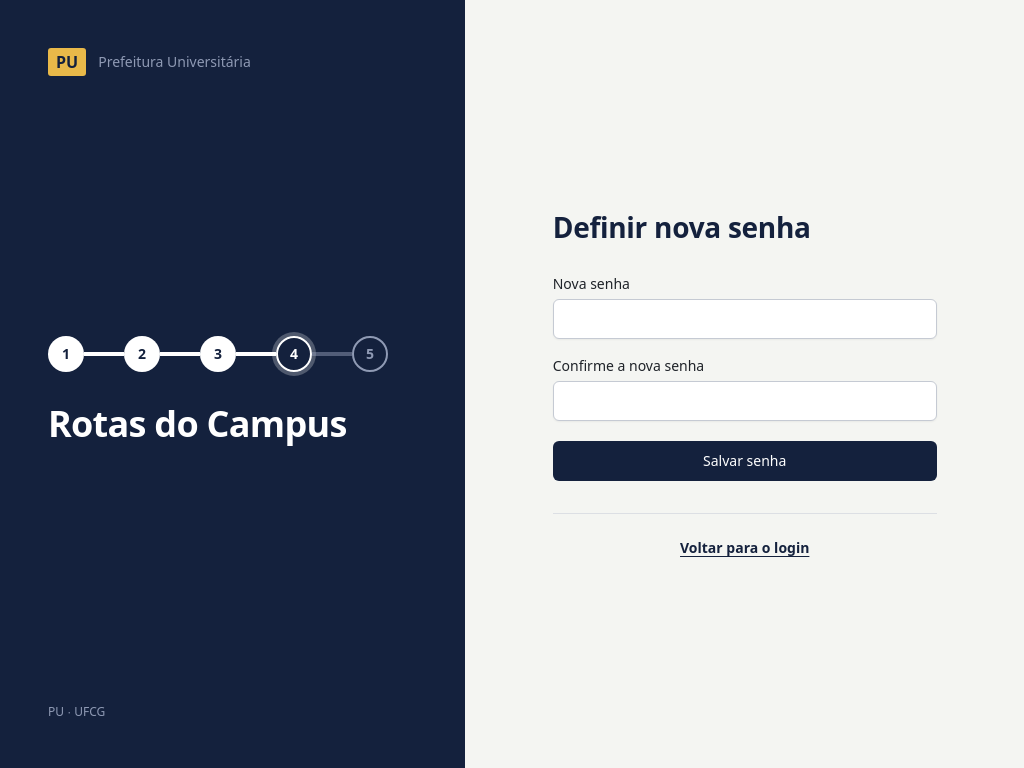
it: ResetPasswordPage (RF03, RF05 invite) › sends the token from the link with the new password
The width and height of the screenshot is (1024, 768).
Type "senha-forte-1" into the password field labelled "Nova senha" at (745, 319), box [553, 299, 937, 339]
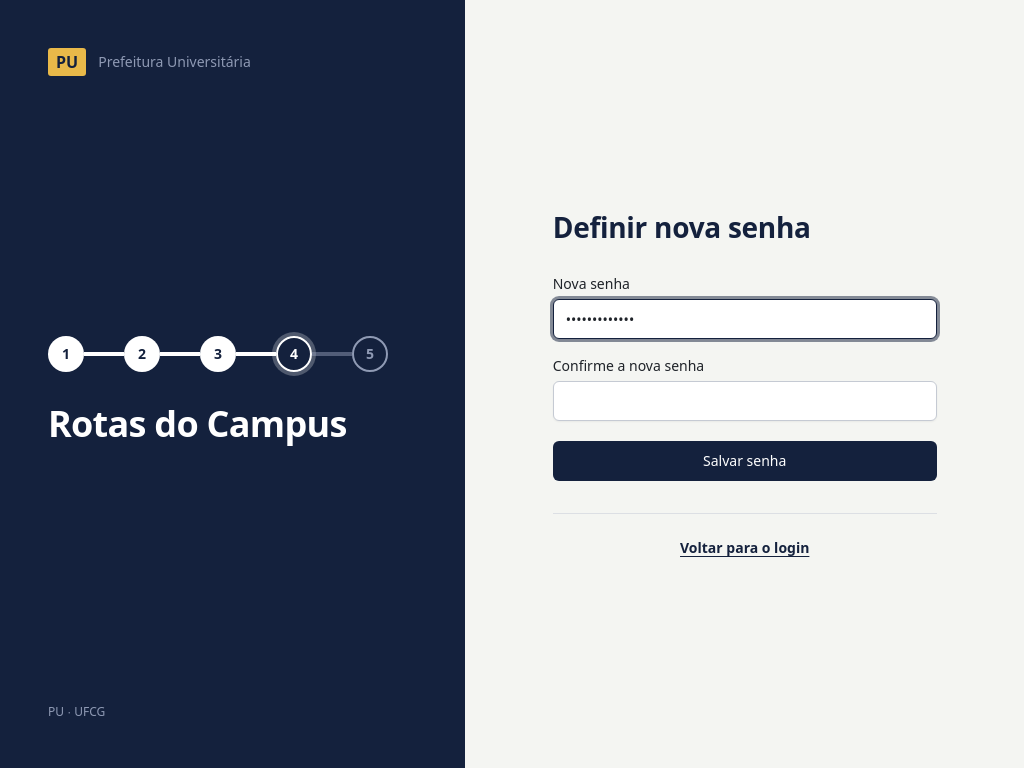
Type "senha-forte-1" into the password field labelled "Confirme a nova senha" at (745, 401), box [553, 381, 937, 421]
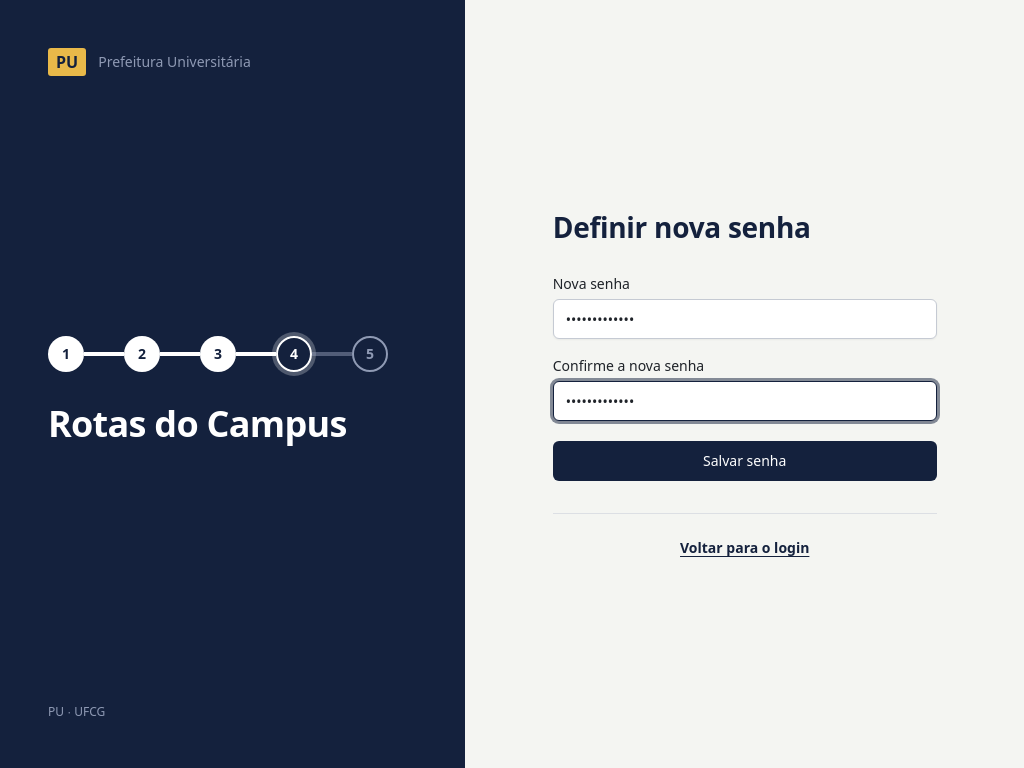
Click the button "Salvar senha" at (745, 461), box [553, 441, 937, 481]
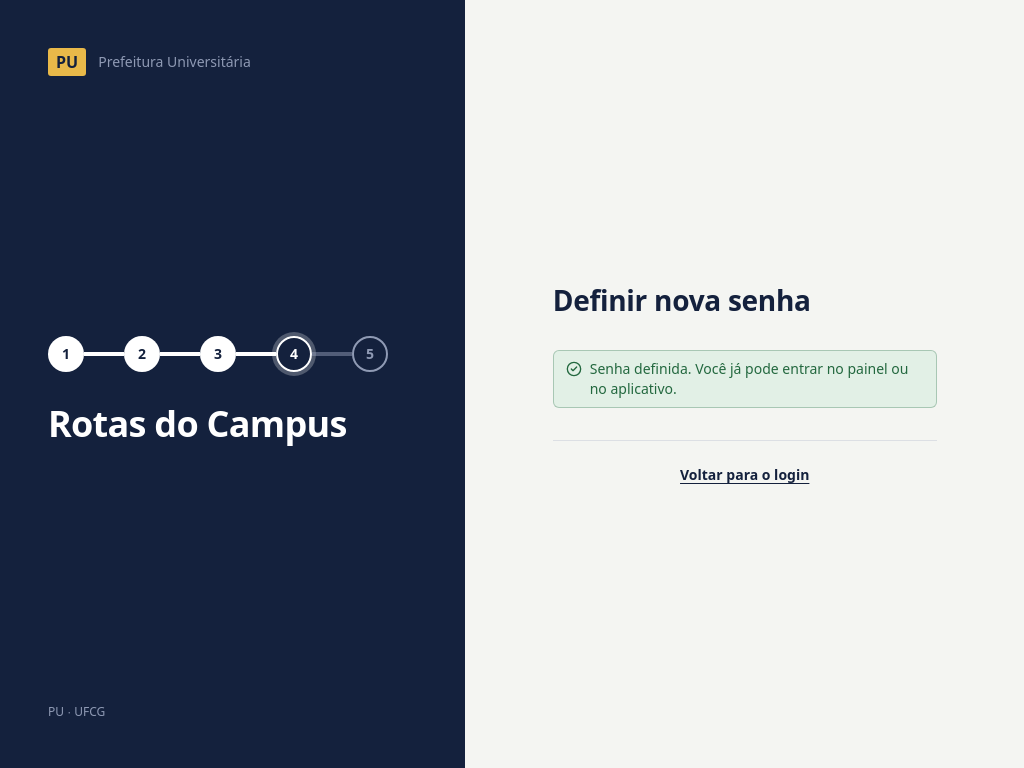
Expected: the message shows "Senha definida", [590, 359, 908, 398]
